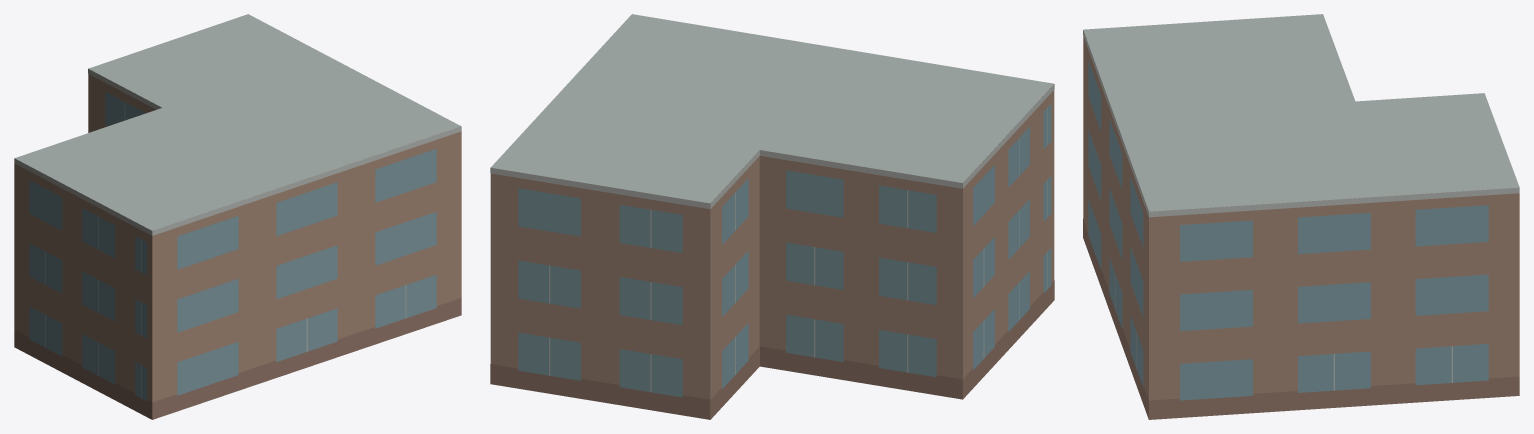
Rendered from survey-upis-32853895.glb.
3 views of the same model, side by side, from view 1: azimuth 30°, elevation 25°; view 2: azimuth 150°, elevation 25°; view 3: azimuth 270°, elevation 25° (orthographic). The views are drawn at different scales.
Parts seen in each view (by area): view 1: survey-upis-32853895.tmp; view 2: survey-upis-32853895.tmp; view 3: survey-upis-32853895.tmp.
Part boxes in pixels (left/top/right/bottom): survey-upis-32853895.tmp: left=14, top=14, right=461, bottom=419; survey-upis-32853895.tmp: left=490, top=14, right=1054, bottom=419; survey-upis-32853895.tmp: left=1083, top=14, right=1519, bottom=419.
Bounding box in the file's own units: 18.66 × 9.15 × 17.41.
